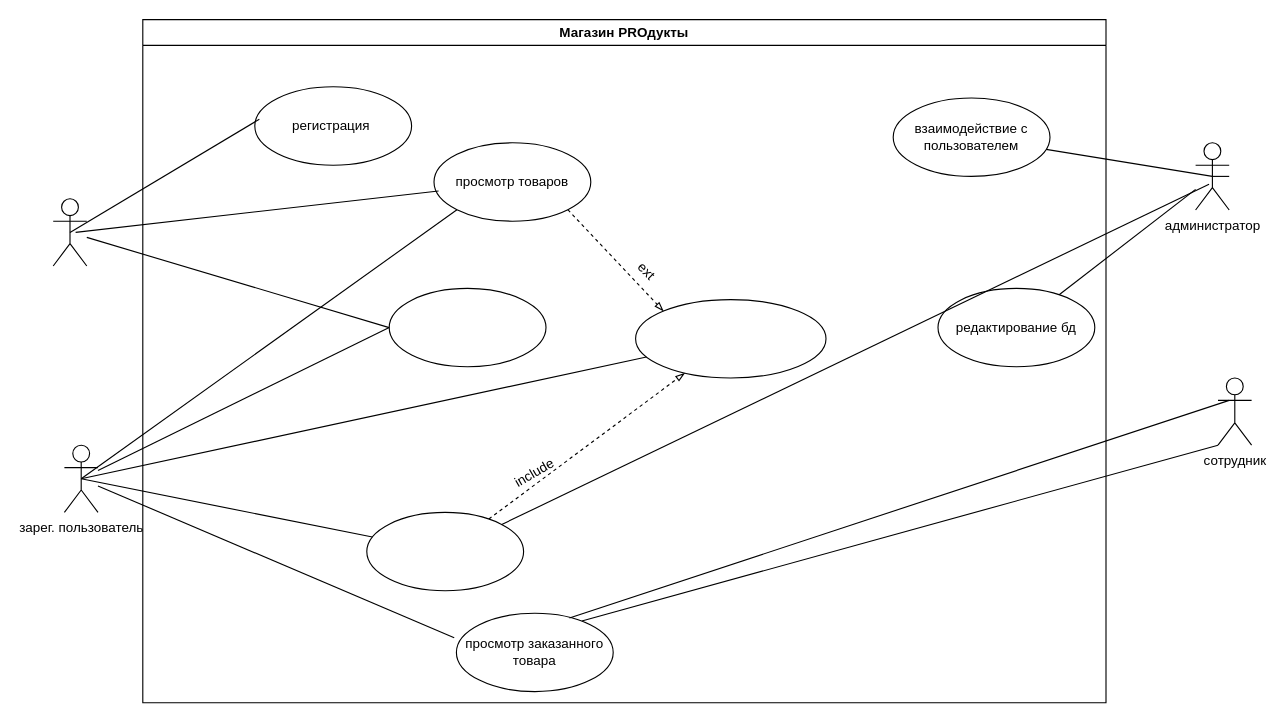
The diagram is 1286 pixels wide and 722 high, and some of its shapes have lost their labels. Each missing label, with the centre of its shape:
"авторизация" goes at pixel 445 551.
"гость" goes at pixel 69 232.
"заказать товар" goes at pixel 730 338.
"консультация со специалистом" goes at pixel 467 327.
